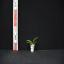leaf: (32, 37, 38, 45), (26, 40, 32, 44), (27, 42, 32, 45), (33, 42, 37, 45), (33, 44, 35, 45), (30, 44, 32, 45)
